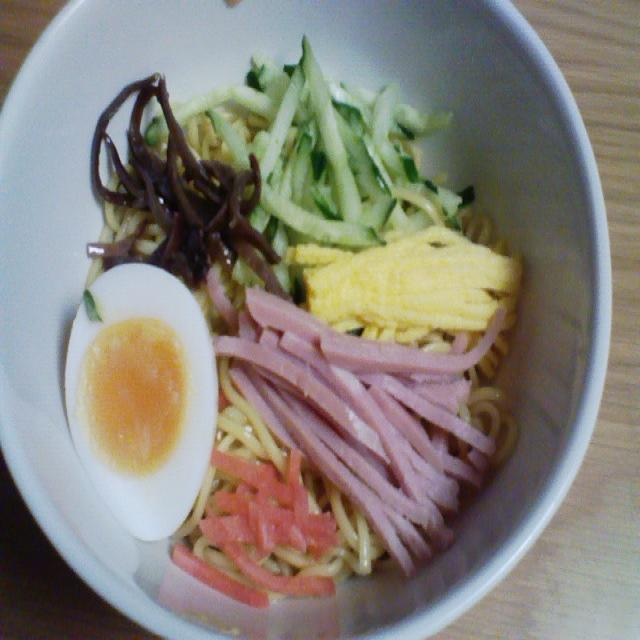面条主食: (44, 29, 518, 603)
